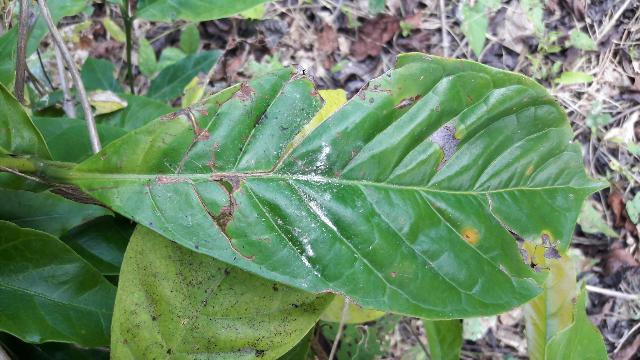rust_level_1: (72, 53, 611, 317)
